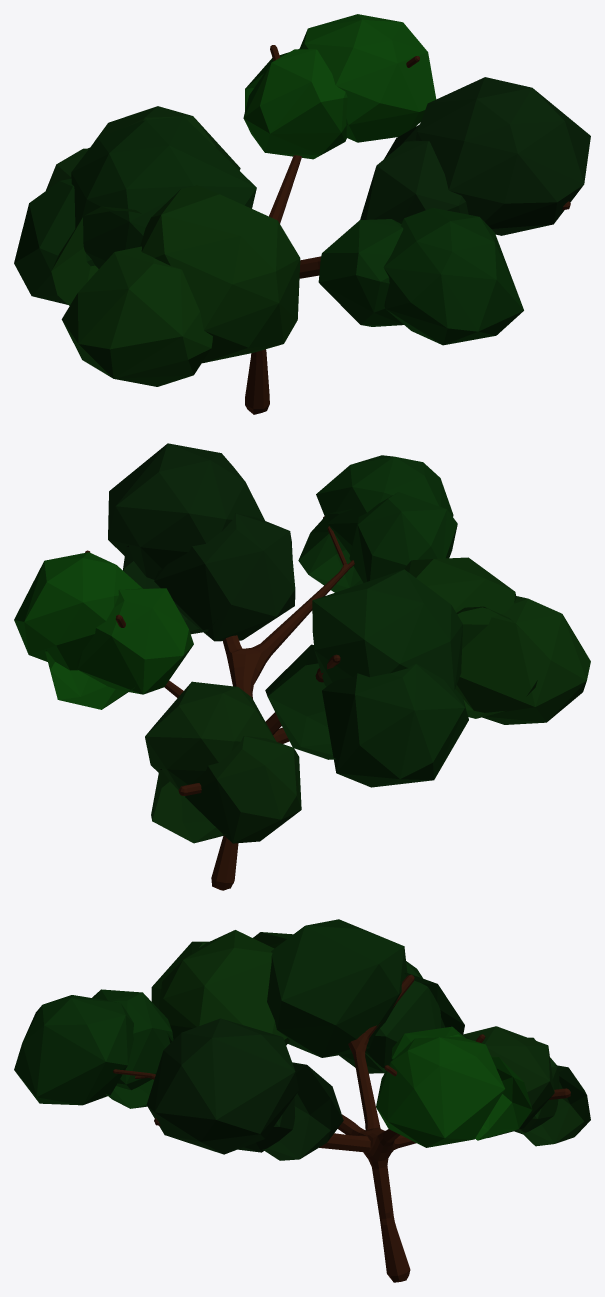
The model's file is Treetest.fbx.
3 views of the same model, one above another, from view 1: azimuth 30°, elevation 25°; view 2: azimuth 150°, elevation 25°; view 3: azimuth 270°, elevation 25° (orthographic). The views are drawn at different scales.
Visible parts, largest first — view 1: Icosphere.002, Icosphere.004, Icosphere.005, Icosphere.003, Icosphere.000, Cube, Icosphere.001; view 2: Icosphere.000, Icosphere.004, Icosphere.003, Icosphere.001, Icosphere.002, Icosphere.005, Cube; view 3: Icosphere.004, Icosphere.000, Icosphere.005, Icosphere.003, Icosphere.002, Icosphere.001, Cube.
Boxes of the visible parts, x1,y1,x2,y2 form: Icosphere.002: [51, 184, 300, 386]; Icosphere.004: [360, 77, 590, 235]; Icosphere.005: [318, 208, 523, 345]; Icosphere.003: [243, 14, 436, 159]; Icosphere.000: [14, 116, 256, 304]; Cube: [245, 45, 570, 414]; Icosphere.001: [46, 106, 240, 190]; Icosphere.000: [265, 569, 468, 787]; Icosphere.004: [108, 443, 295, 641]; Icosphere.003: [14, 552, 193, 709]; Icosphere.001: [145, 681, 301, 843]; Icosphere.002: [403, 557, 590, 724]; Icosphere.005: [298, 455, 457, 592]; Cube: [85, 516, 354, 890]; Icosphere.004: [146, 1018, 343, 1160]; Icosphere.000: [267, 919, 464, 1073]; Icosphere.005: [14, 989, 173, 1108]; Icosphere.003: [376, 1026, 532, 1147]; Icosphere.002: [151, 930, 292, 1045]; Icosphere.001: [462, 1026, 590, 1146]; Cube: [113, 974, 570, 1282].
Bounding box in the file's own units: 533 × 359 × 598.
